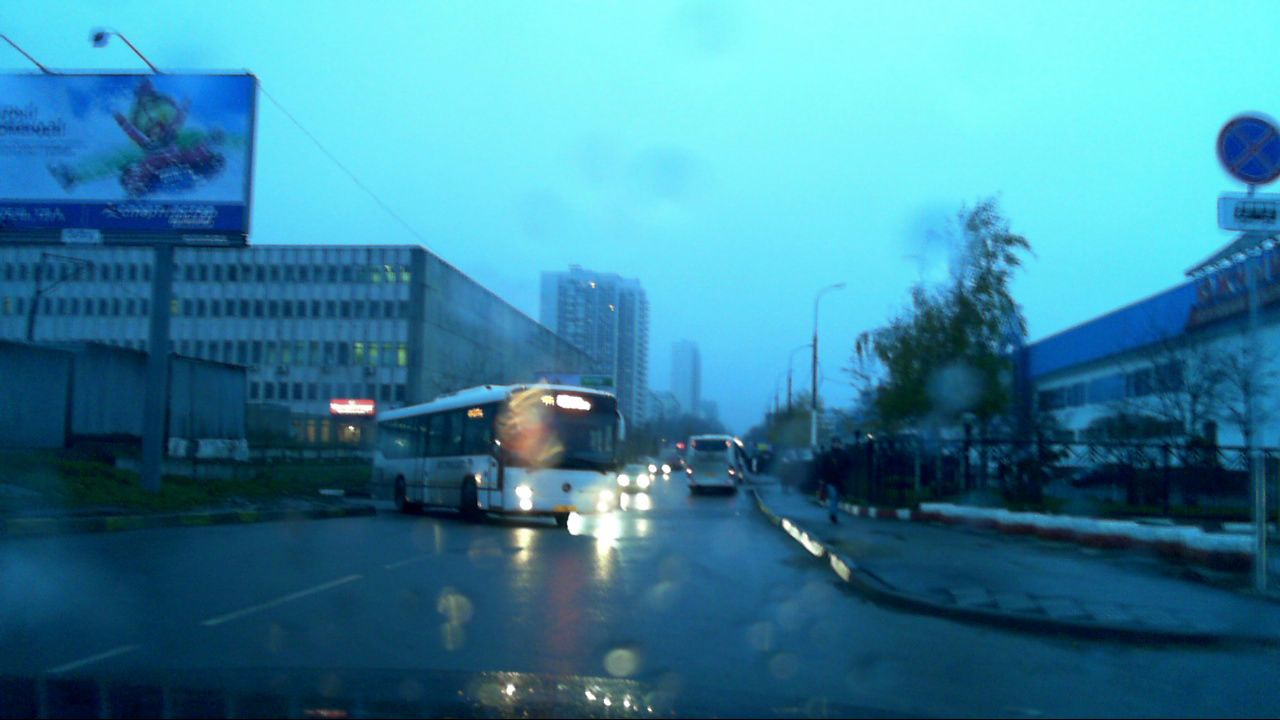No Parking: (1214, 113, 1279, 186)
